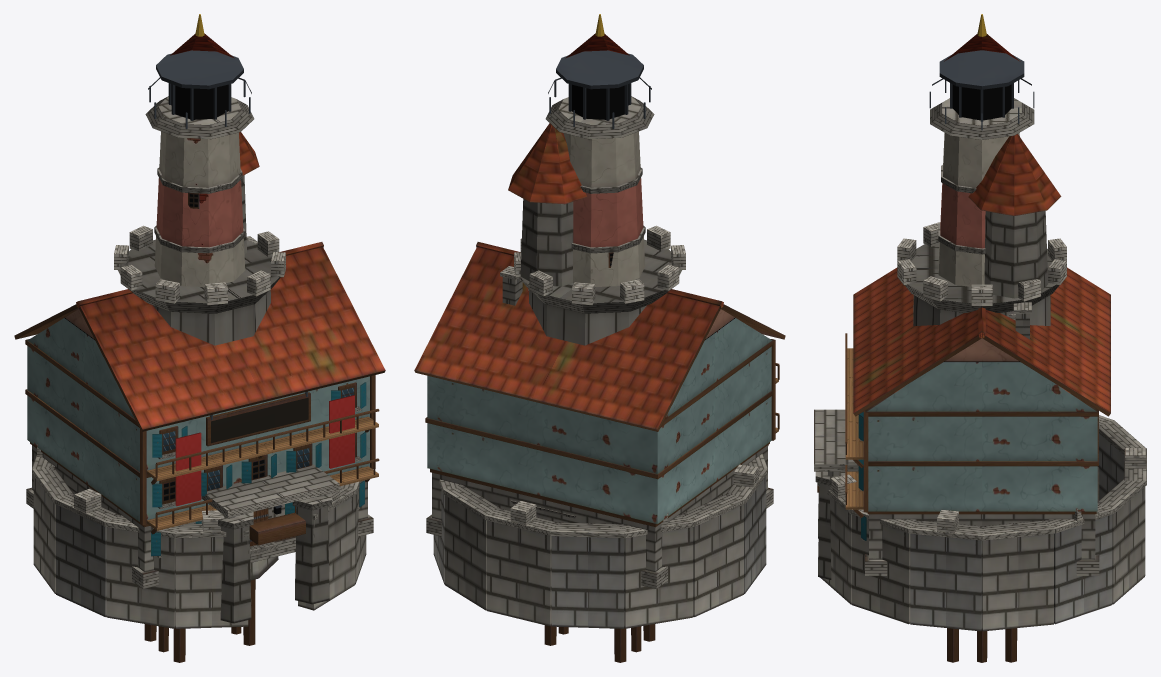
Rendered from town_kit_low.webp.glb.
The picture shows the model from 3 angles, left to right: view 1: azimuth 30°, elevation 25°; view 2: azimuth 150°, elevation 25°; view 3: azimuth 270°, elevation 25°; orthographic projection.
Visible parts, largest first — view 1: squadhall_LOD1, fort_LOD1, lighthouse_LOD1, pierHead_LOD1; view 2: squadhall_LOD1, fort_LOD1, lighthouse_LOD1, pierHead_LOD1; view 3: squadhall_LOD1, fort_LOD1, lighthouse_LOD1, pierHead_LOD1.
Boxes of the visible parts, left/top/right/bottom form: squadhall_LOD1: left=14, top=236, right=385, bottom=588; fort_LOD1: left=32, top=132, right=366, bottom=628; lighthouse_LOD1: left=145, top=14, right=254, bottom=286; pierHead_LOD1: left=144, top=579, right=255, bottom=662; squadhall_LOD1: left=414, top=242, right=785, bottom=588; fort_LOD1: left=433, top=123, right=767, bottom=628; lighthouse_LOD1: left=511, top=14, right=654, bottom=518; pierHead_LOD1: left=544, top=624, right=655, bottom=662; squadhall_LOD1: left=814, top=267, right=1110, bottom=575; fort_LOD1: left=815, top=134, right=1146, bottom=631; lighthouse_LOD1: left=929, top=14, right=1034, bottom=286; pierHead_LOD1: left=947, top=628, right=1017, bottom=662.
Size of the model in its own units: 20.92 by 42.9 by 20.6.
1 material, 1 textured.
